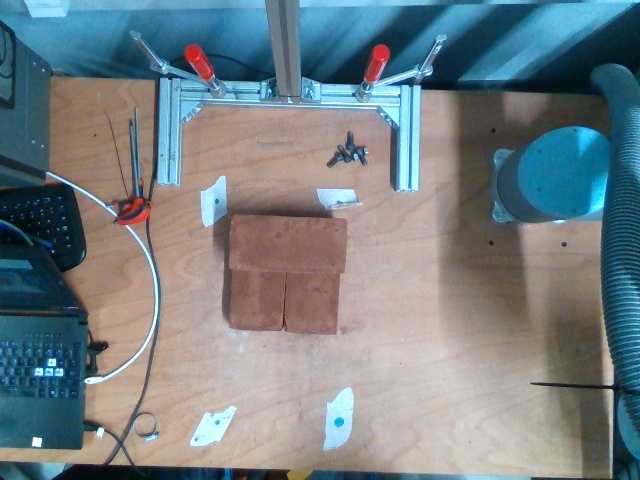brick: (229, 216, 345, 271)
